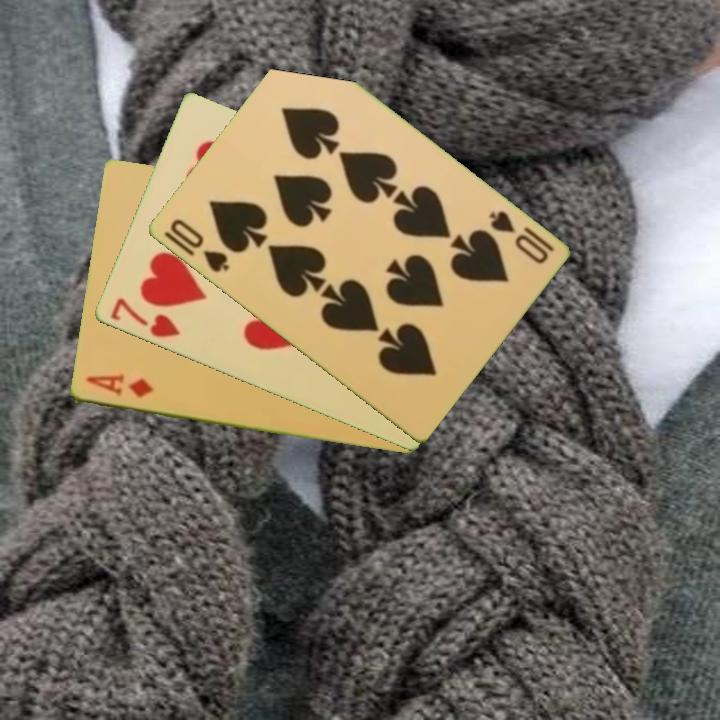10s: (484, 207, 557, 267), (165, 215, 232, 276)
7h: (106, 294, 183, 341)
Ad: (81, 371, 155, 401)
